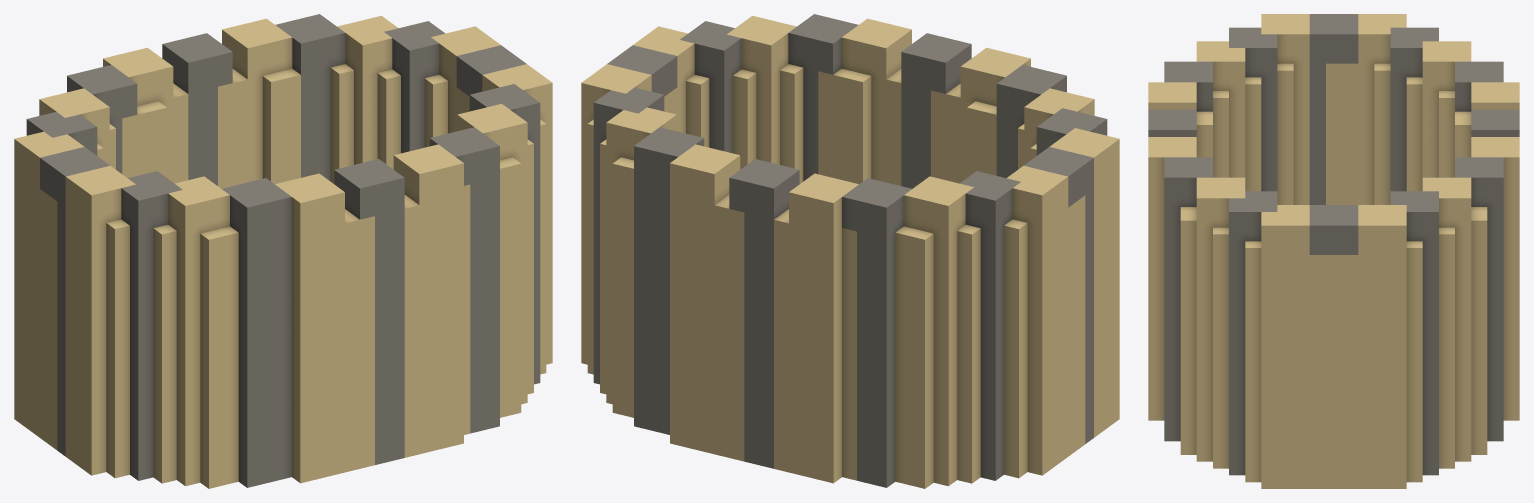
File: w_arena.glb
3 renders of one model, left to right at view 1: azimuth 30°, elevation 25°; view 2: azimuth 150°, elevation 25°; view 3: azimuth 270°, elevation 25°, orthographic. The views are drawn at different scales.
Visible parts, largest first — view 1: w_arena_body; view 2: w_arena_body; view 3: w_arena_body.
Boxes of the visible parts, x1,y1,x2,y2 form: w_arena_body: (14,14,552,488); w_arena_body: (581,14,1119,488); w_arena_body: (1148,14,1519,488).
Bounding box in the file's own units: 1.94 × 1.12 × 1.44.
1 material, 1 textured.
